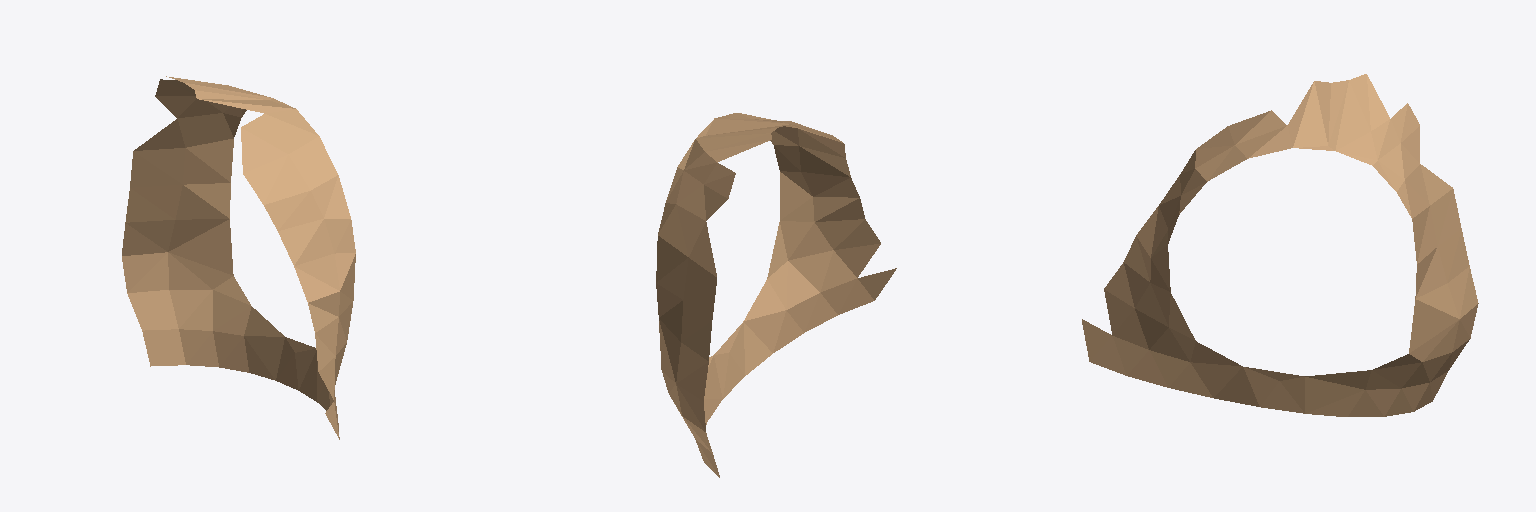
File: LeftCollar.obj
3 views of the same model, side by side, from view 1: azimuth 30°, elevation 25°; view 2: azimuth 150°, elevation 25°; view 3: azimuth 270°, elevation 25° (orthographic).
Visible parts, largest first — view 1: polySurface19 polySurface13 polySurface11 polySurface10 polySurf; view 2: polySurface19 polySurface13 polySurface11 polySurface10 polySurf; view 3: polySurface19 polySurface13 polySurface11 polySurface10 polySurf.
Part boxes in pixels (bbox=[...]): polySurface19 polySurface13 polySurface11 polySurface10 polySurf: bbox=[122, 76, 355, 439]; polySurface19 polySurface13 polySurface11 polySurface10 polySurf: bbox=[656, 113, 896, 477]; polySurface19 polySurface13 polySurface11 polySurface10 polySurf: bbox=[1082, 74, 1478, 416].
Bounding box in the file's own units: 2.34 × 7.54 × 8.52.